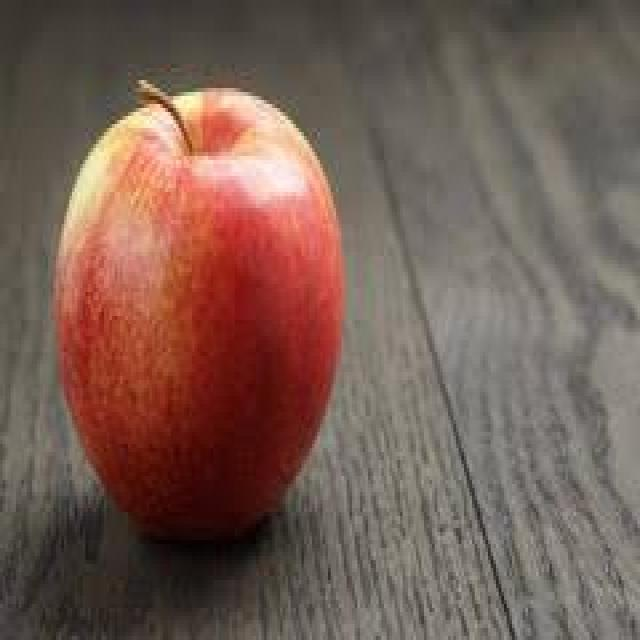maca: (51, 76, 344, 544)
